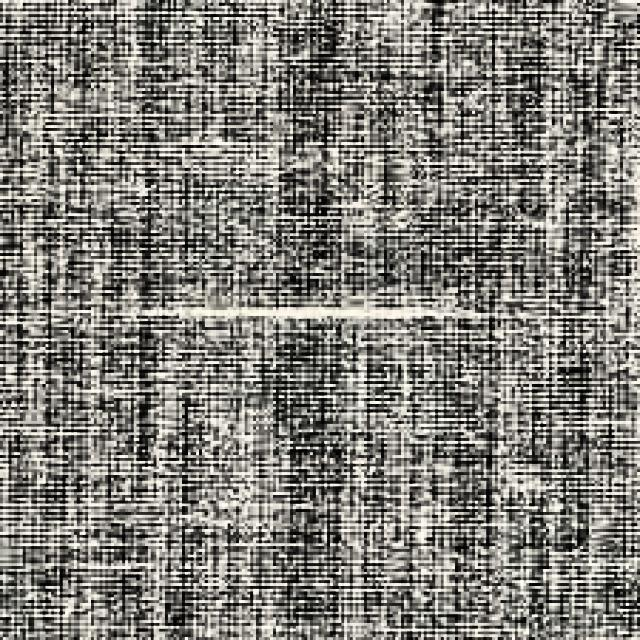baekra: (131, 297, 495, 338)
